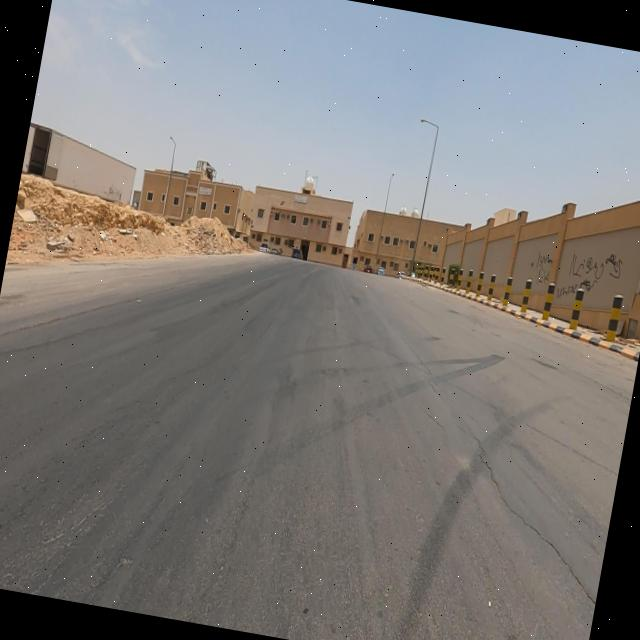Graffiti: (567, 244, 624, 295), (533, 253, 553, 287), (558, 280, 579, 303)
